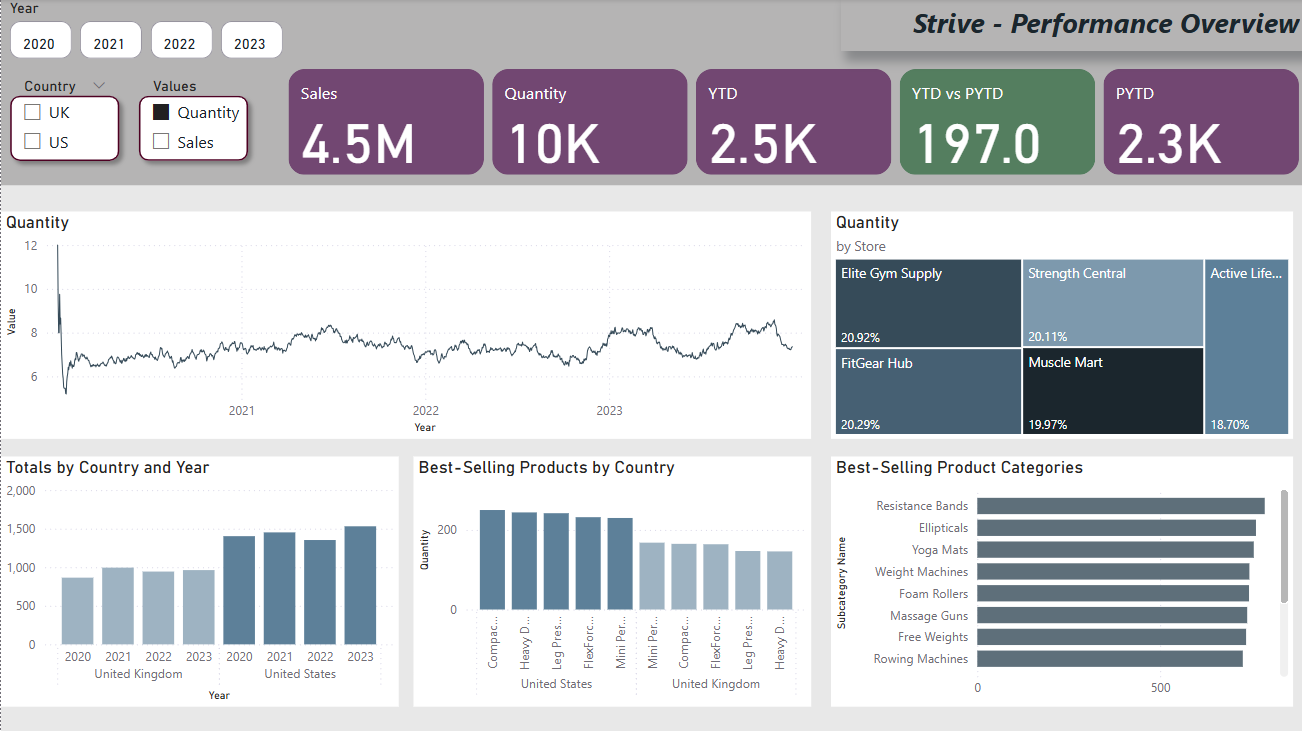

What the dashboard file says about the page in this screenshot:
{"tool":"powerbi","page":{"name":"Page 1","canvas":[1280,720],"ordinal":0},"visuals":[{"type":"shape","box":[0,0,1279.8,182.8],"z":0},{"type":"shape","box":[0,85.6,125.2,82.1],"z":1000,"group":"g2"},{"type":"advancedSlicerVisual","fields":{"Values":["dim_dates.Year"]},"box":[8.6,0,274.8,63.8],"z":2000},{"type":"shape","box":[126.4,85.6,125.2,82],"z":2000,"group":"g1"},{"type":"treemap","fields":{"Group":["dim_stores.store_name"],"Values":["All Measures.Switch Totals"]},"box":[814.7,208.6,454,223],"z":3000},{"type":"slicer","fields":{"Values":["Slicer1.Values"]},"box":[136.8,72.4,104.3,95.7],"z":4000,"group":"g1"},{"type":"clusteredColumnChart","title":"Totals by Country and Year","fields":{"Category":["dim_stores.country_name","dim_dates.Year"],"Y":["All Measures.Switch Totals"]},"box":[0,449.1,390,245.4],"z":4000},{"type":"lineStackedColumnComboChart","title":"Best-Selling Products by Country","fields":{"Category":["dim_stores.country_name","dim_products.product_name"],"Y":["Divide(All Measures.Total Products Sold, ScopedEval(All Measures.Total Products Sold, []))"]},"box":[405.1,449.1,390,245.4],"z":5000},{"type":"barChart","title":"Best-Selling Product Categories","fields":{"Category":["dim_products.category_name","dim_products.subcategory_name","dim_products.product_name"],"Y":["All Measures.Switch Totals"]},"box":[814.7,449.1,454,245.4],"z":6000},{"type":"lineChart","fields":{"Y":["All Measures.Switch Moving Average"],"Category":["dim_dates.Year-Month"]},"box":[0,208.6,795.1,223.3],"z":7000},{"type":"cardVisual","fields":{"Data":["All Measures.Switch Total Sales","All Measures.Switch Quantity","All Measures.Switch_YTD","All Measures.Switch YTD vs PYTD","All Measures.Switch_PYTD"]},"box":[277.3,63.8,1002.5,114.1],"z":8000},{"type":"slicer","fields":{"Values":["Slicer2.Country"]},"box":[9.5,72.4,105.5,85.9],"z":9000,"group":"g2"},{"type":"group","id":"g1","title":"Group 1","box":[126.4,72.4,125.2,95.7],"z":9000},{"type":"group","id":"g2","title":"Group 2","box":[0,72.4,126.4,95.7],"z":10000},{"type":"textbox","box":[824.5,0,455.2,51.5],"z":11000}]}

Visuals, with their boxes in screenshot pixels (x1, y1, x2, y2), scaled from the page's 1280x720 canvas onto the 1302x731 screenshot:
shape: {"left": 0, "top": 0, "right": 1301, "bottom": 186}
shape: {"left": 0, "top": 87, "right": 127, "bottom": 170}
advancedSlicerVisual - dim_dates.Year: {"left": 9, "top": 0, "right": 288, "bottom": 65}
shape: {"left": 129, "top": 87, "right": 256, "bottom": 170}
treemap - dim_stores.store_name x All Measures.Switch Totals: {"left": 829, "top": 212, "right": 1291, "bottom": 438}
slicer - Slicer1.Values: {"left": 139, "top": 74, "right": 245, "bottom": 171}
"Totals by Country and Year" clusteredColumnChart: {"left": 0, "top": 456, "right": 397, "bottom": 705}
"Best-Selling Products by Country" lineStackedColumnComboChart: {"left": 412, "top": 456, "right": 809, "bottom": 705}
"Best-Selling Product Categories" barChart: {"left": 829, "top": 456, "right": 1291, "bottom": 705}
lineChart - All Measures.Switch Moving Average x dim_dates.Year-Month: {"left": 0, "top": 212, "right": 809, "bottom": 438}
cardVisual - All Measures.Switch Total Sales x All Measures.Switch Quantity: {"left": 282, "top": 65, "right": 1301, "bottom": 181}
slicer - Slicer2.Country: {"left": 10, "top": 74, "right": 117, "bottom": 161}
"Group 1" group: {"left": 129, "top": 74, "right": 256, "bottom": 171}
"Group 2" group: {"left": 0, "top": 74, "right": 129, "bottom": 171}
textbox: {"left": 839, "top": 0, "right": 1301, "bottom": 52}
